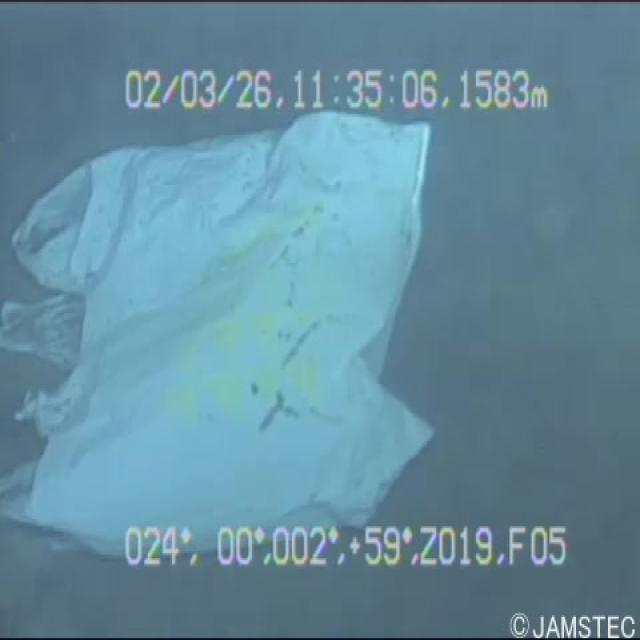plastic: (0, 80, 477, 585)
